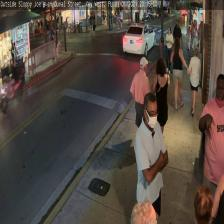person: (134, 92, 169, 224), (198, 73, 224, 224), (130, 56, 149, 147), (151, 58, 170, 146)
